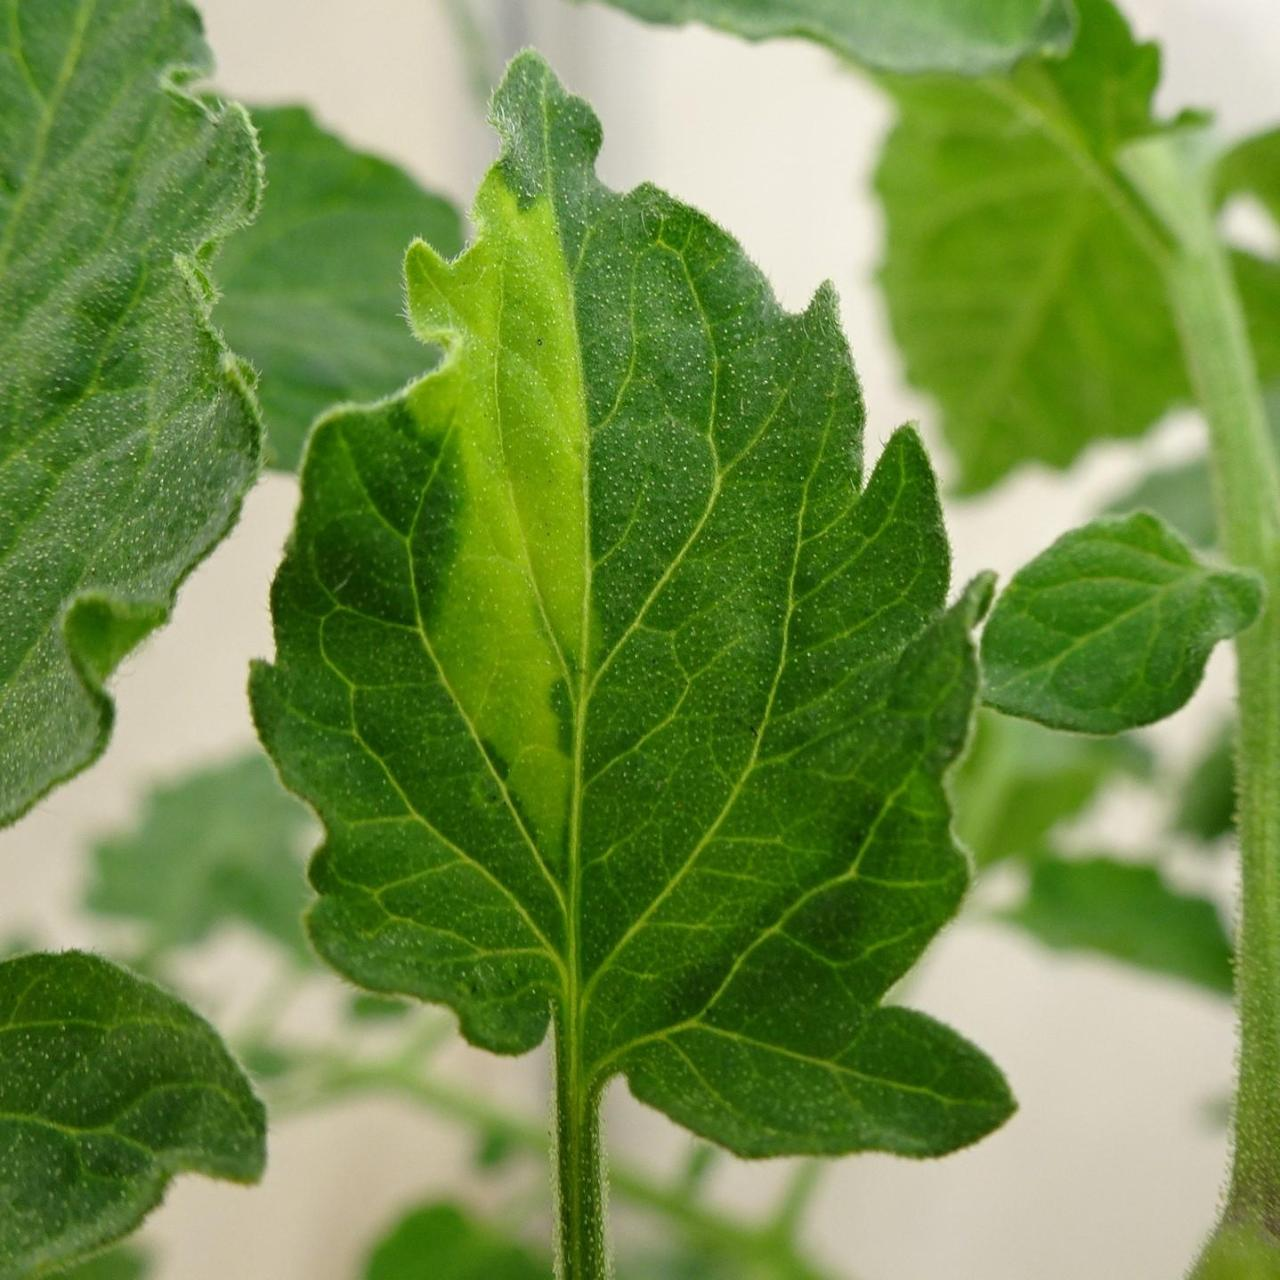T_L_R: (254, 69, 1012, 1156), (1, 1, 264, 826), (1, 951, 266, 1280), (983, 515, 1264, 736)
T_S_R: (554, 1019, 611, 1280)
